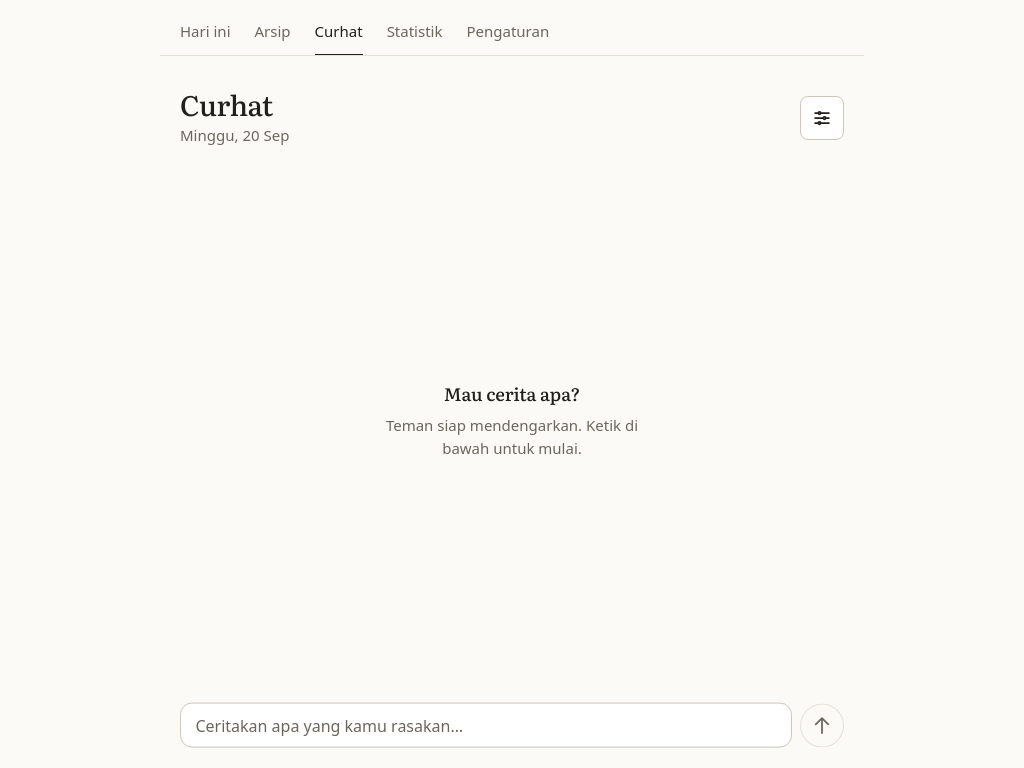
Scenario: provider error shows the mapped message and retry recovers
Type "halo" into the text box named "Pesan" at (486, 726), box [180,703,792,748]
Then press Enter
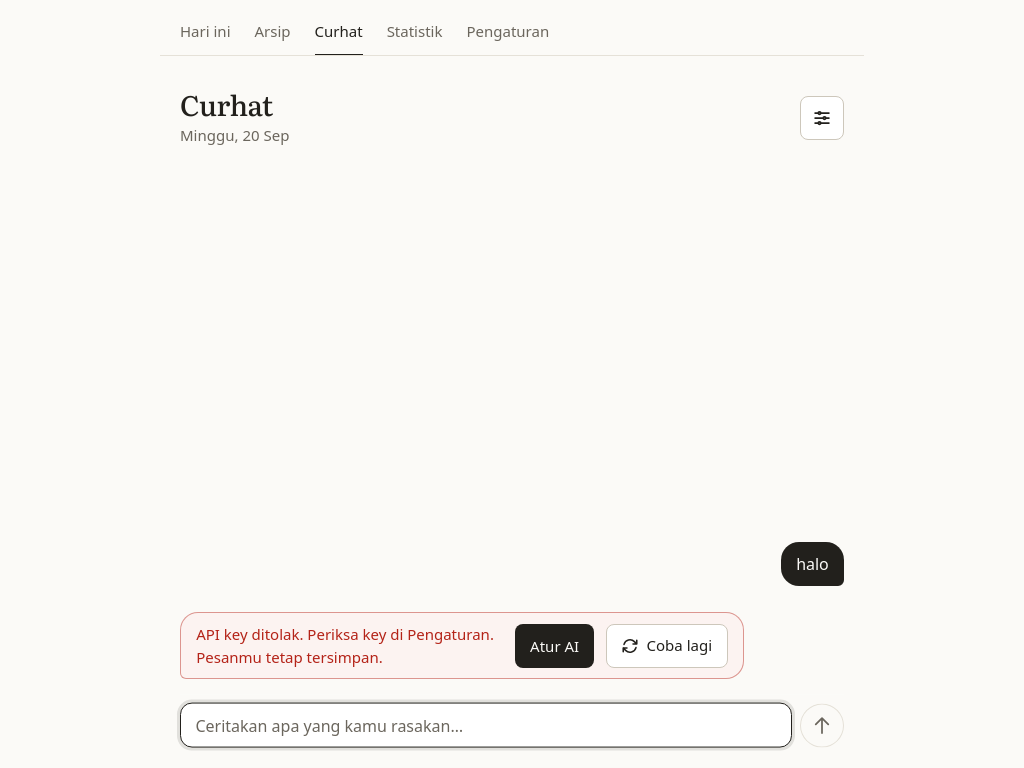
Expected: the message shows "API key ditolak. Periksa key di Pengaturan.", [196,624,494,644]
Click the button "Coba lagi" at (667, 646), box [606,624,728,668]
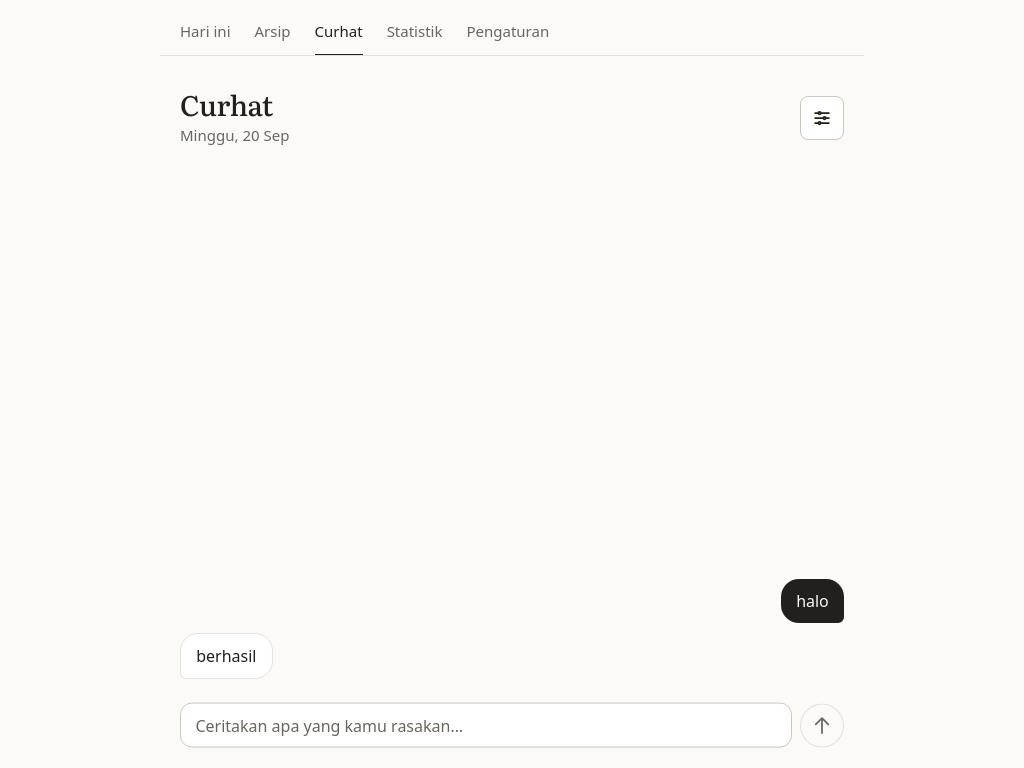
Expected: the list item "berhasil" is shown, [180,633,273,679]
Expected: the number of list items "halo" is 1, [781,579,844,623]
